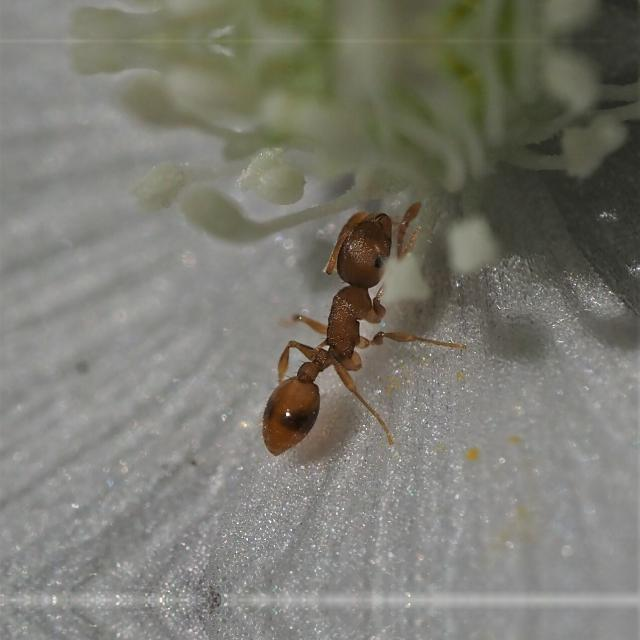Temnothorax: (202, 178, 460, 466)
